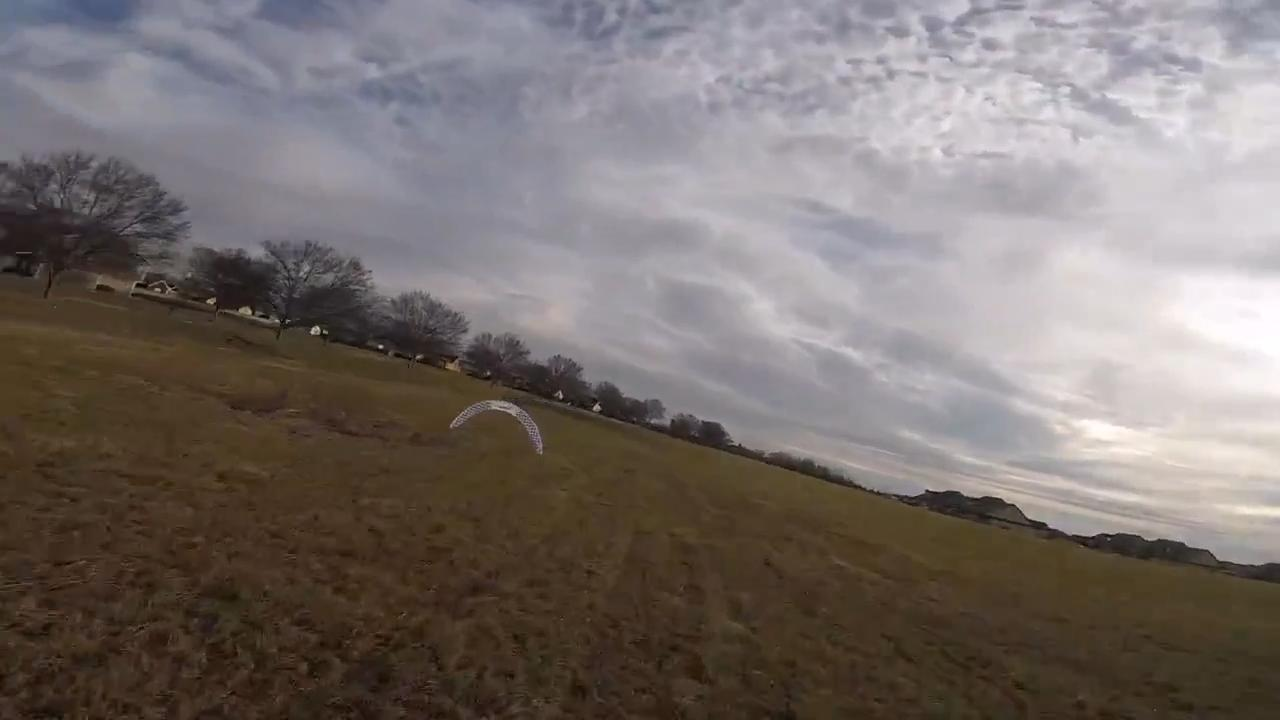gate: (446, 398, 547, 462)
